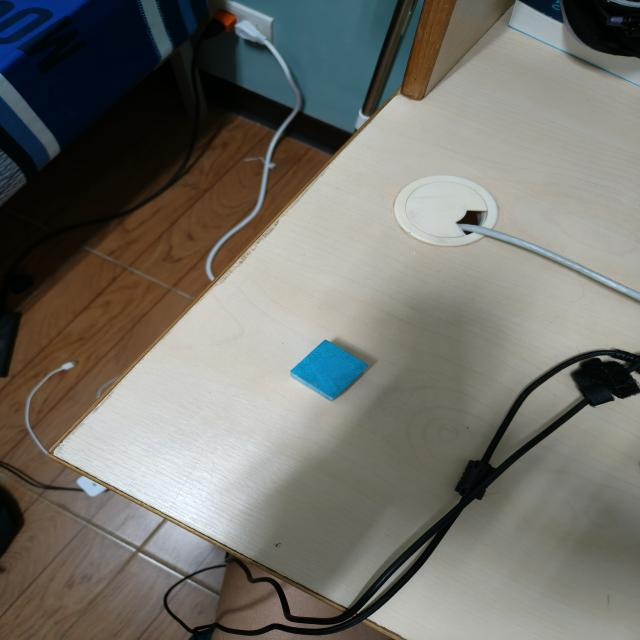blue_block: (288, 340, 372, 401)
